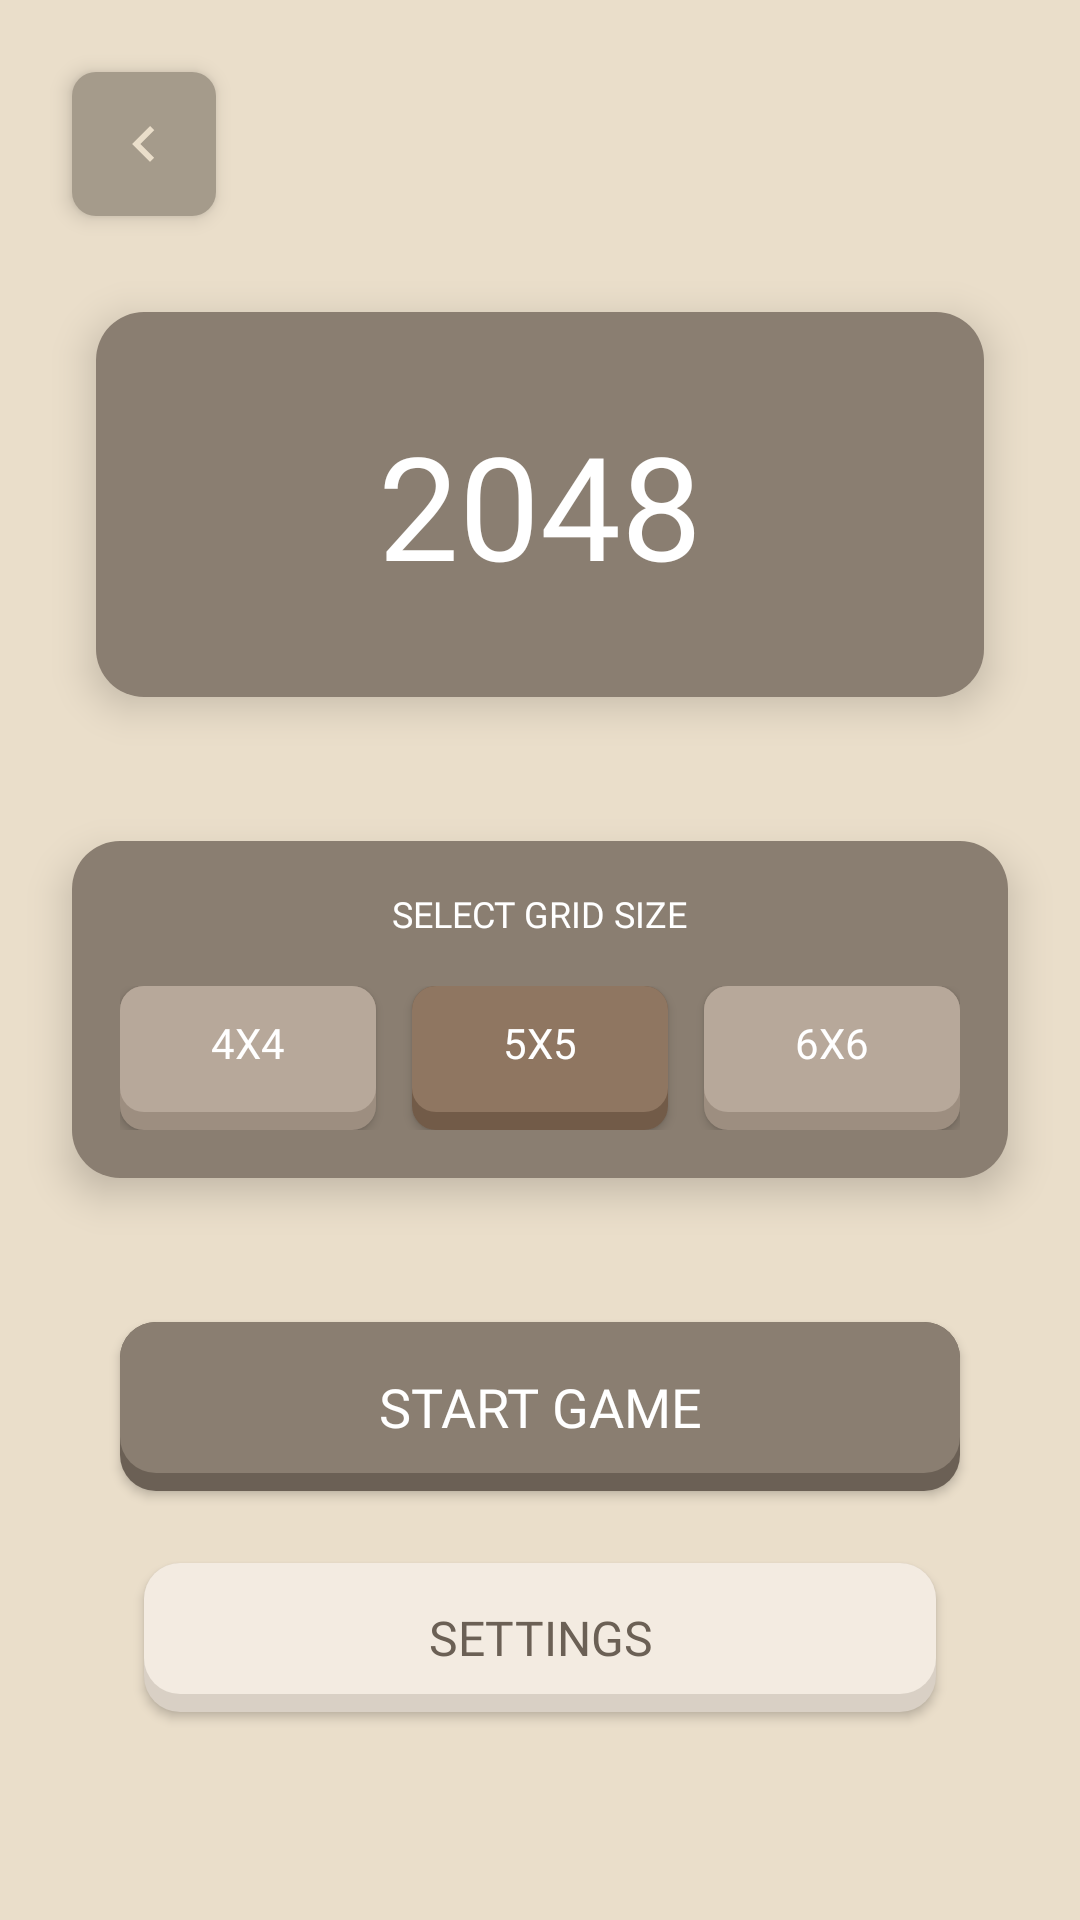

Icon click points for this 1080x1920 phone screenshot, format (x=x, y=y):
Go Back: (x=144, y=144)
